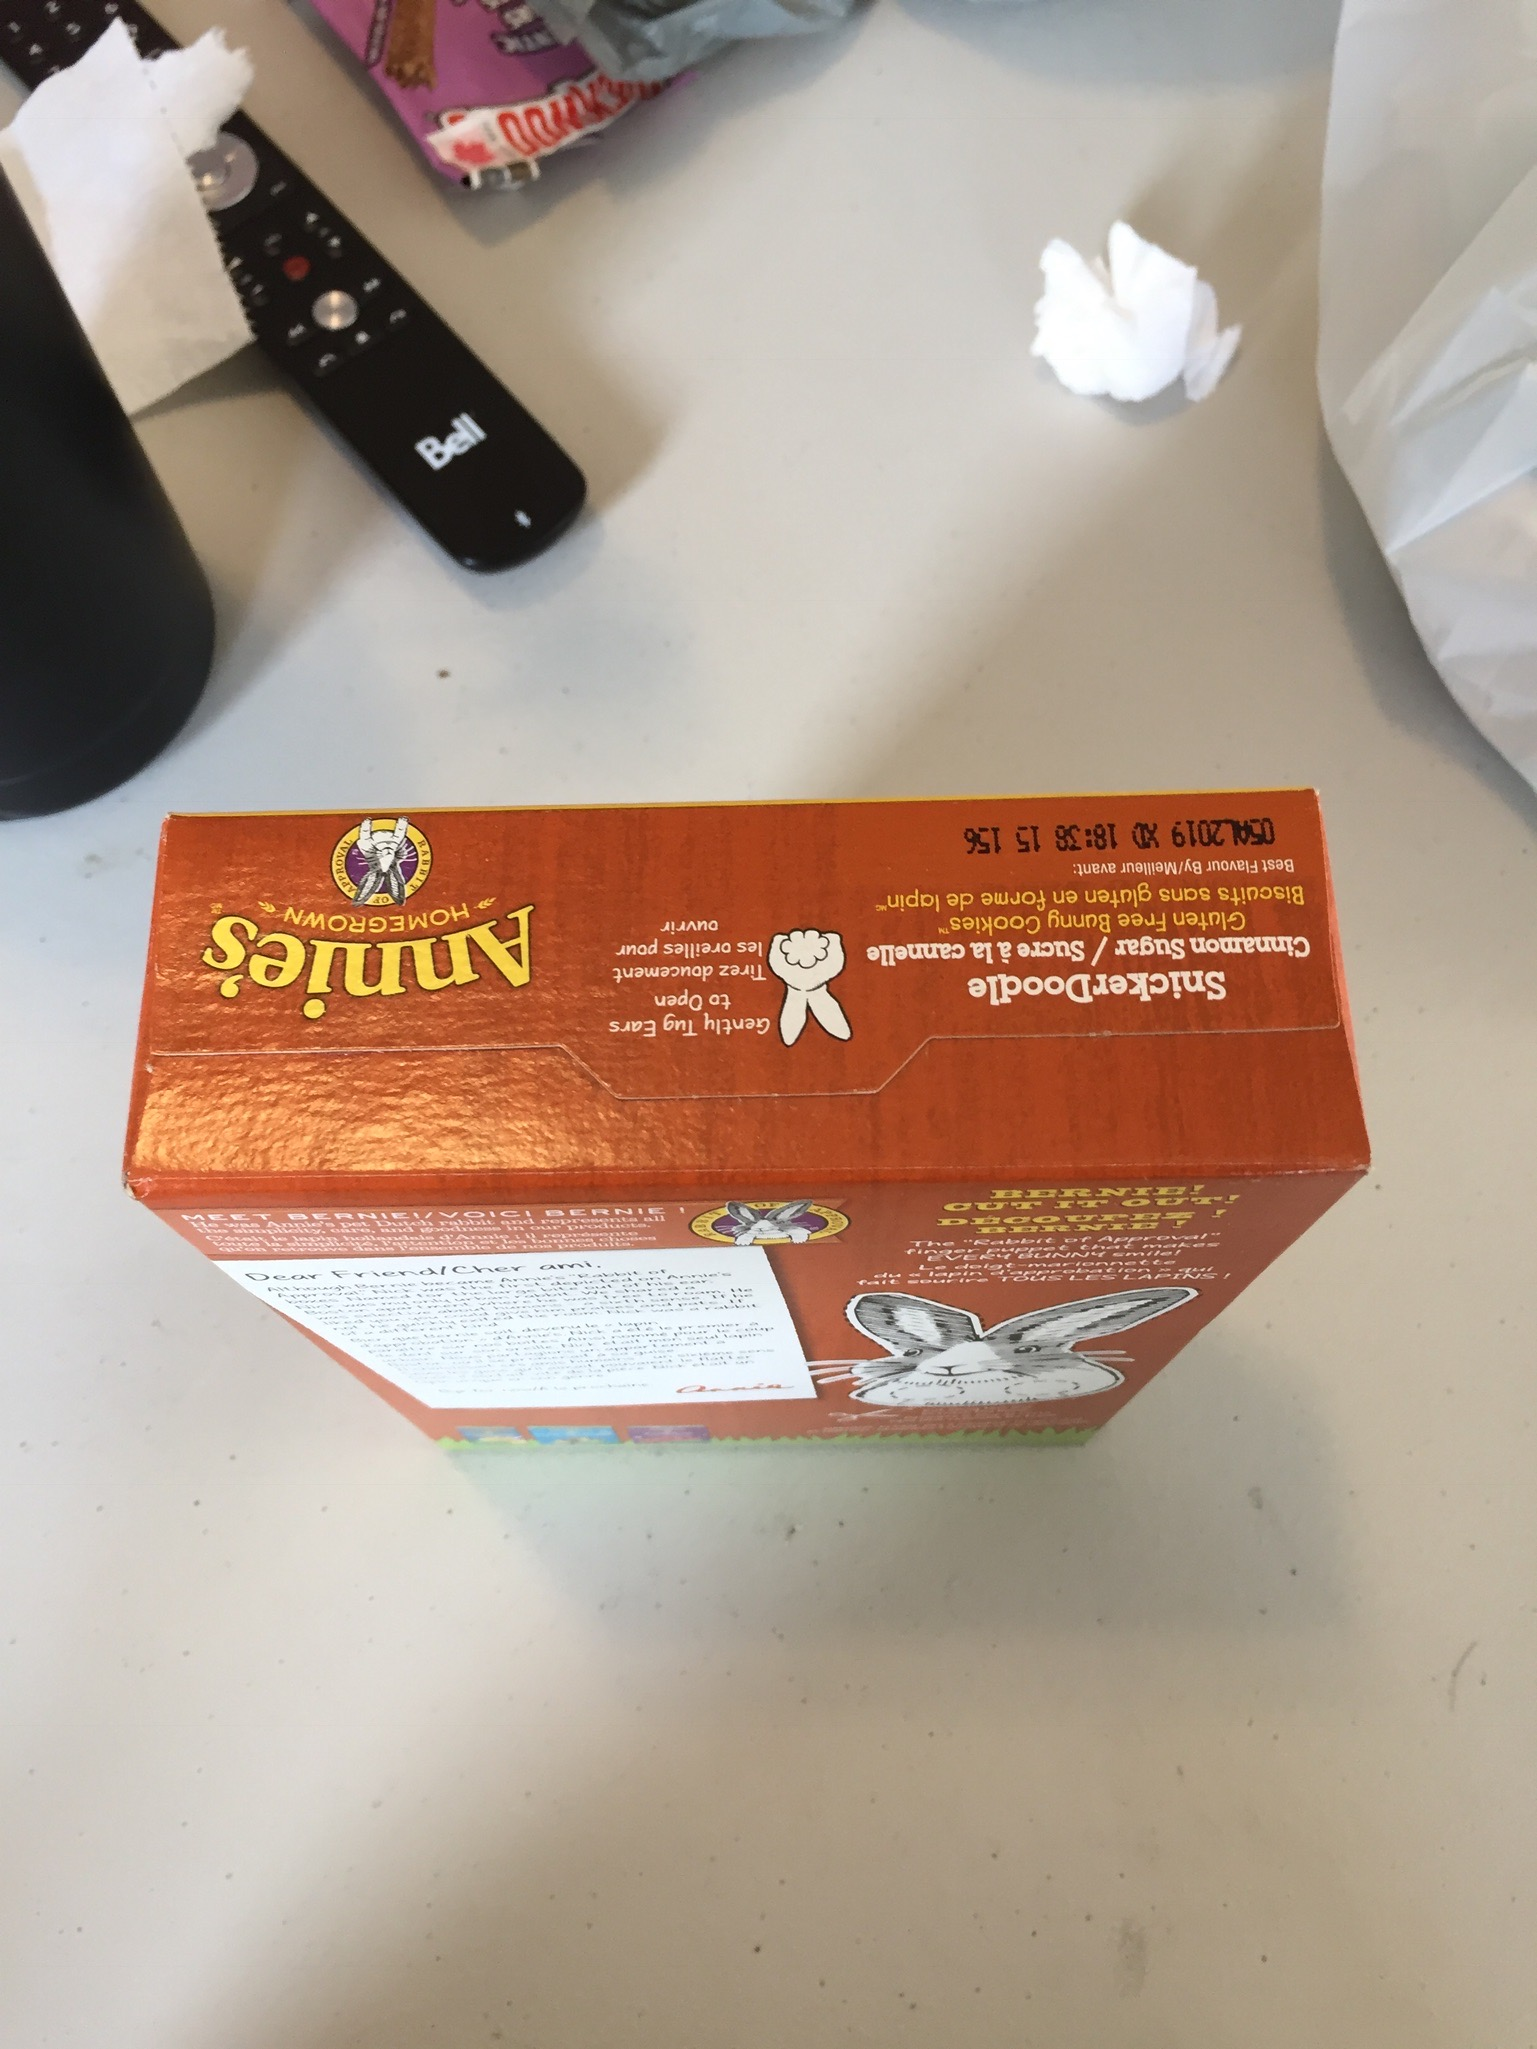annies_snickerdoodle_cinnamon_sugar: (171, 820, 1321, 1121)
